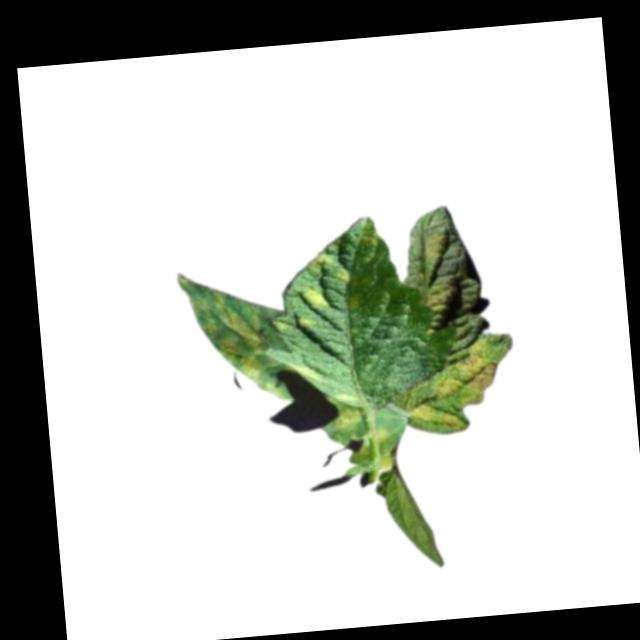Leaf_Mold: (174, 269, 288, 406), (405, 336, 503, 435), (417, 274, 480, 321), (412, 226, 451, 265), (328, 401, 365, 434), (296, 285, 327, 312)
